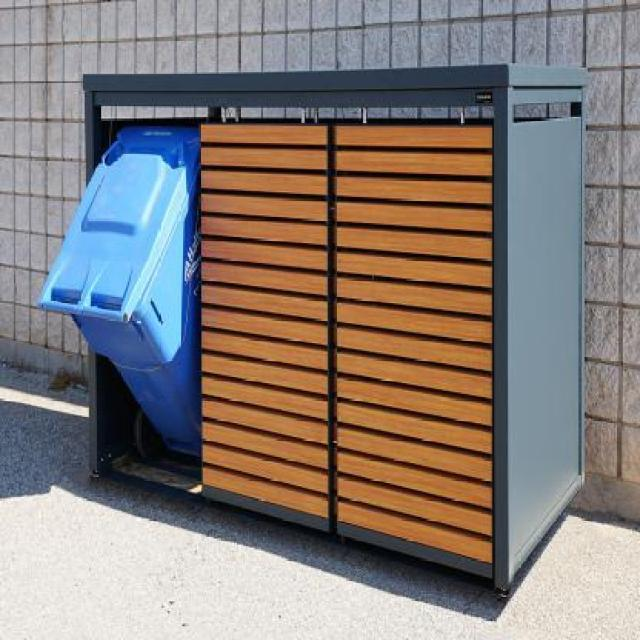garbage container: (37, 118, 203, 487)
